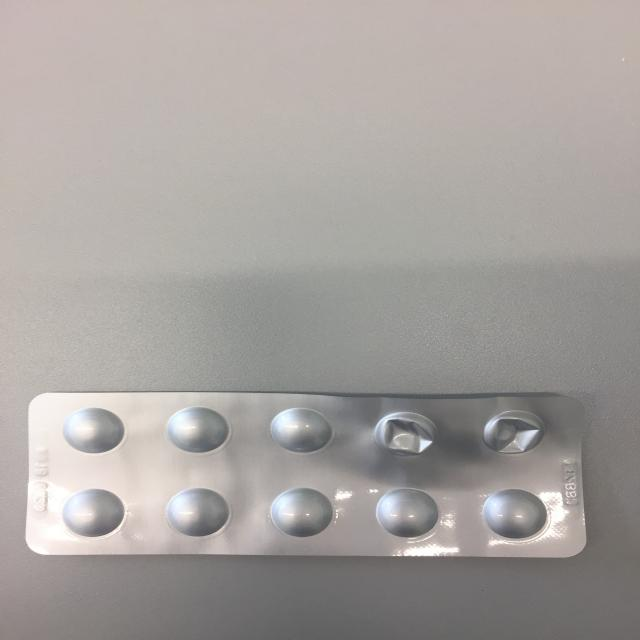Empty: (368, 408, 443, 460), (479, 408, 549, 458)
Pill: (476, 486, 551, 542), (264, 485, 338, 539), (162, 485, 232, 541), (58, 404, 130, 456), (59, 485, 127, 540), (375, 485, 443, 540), (164, 404, 230, 456), (268, 405, 334, 455)
